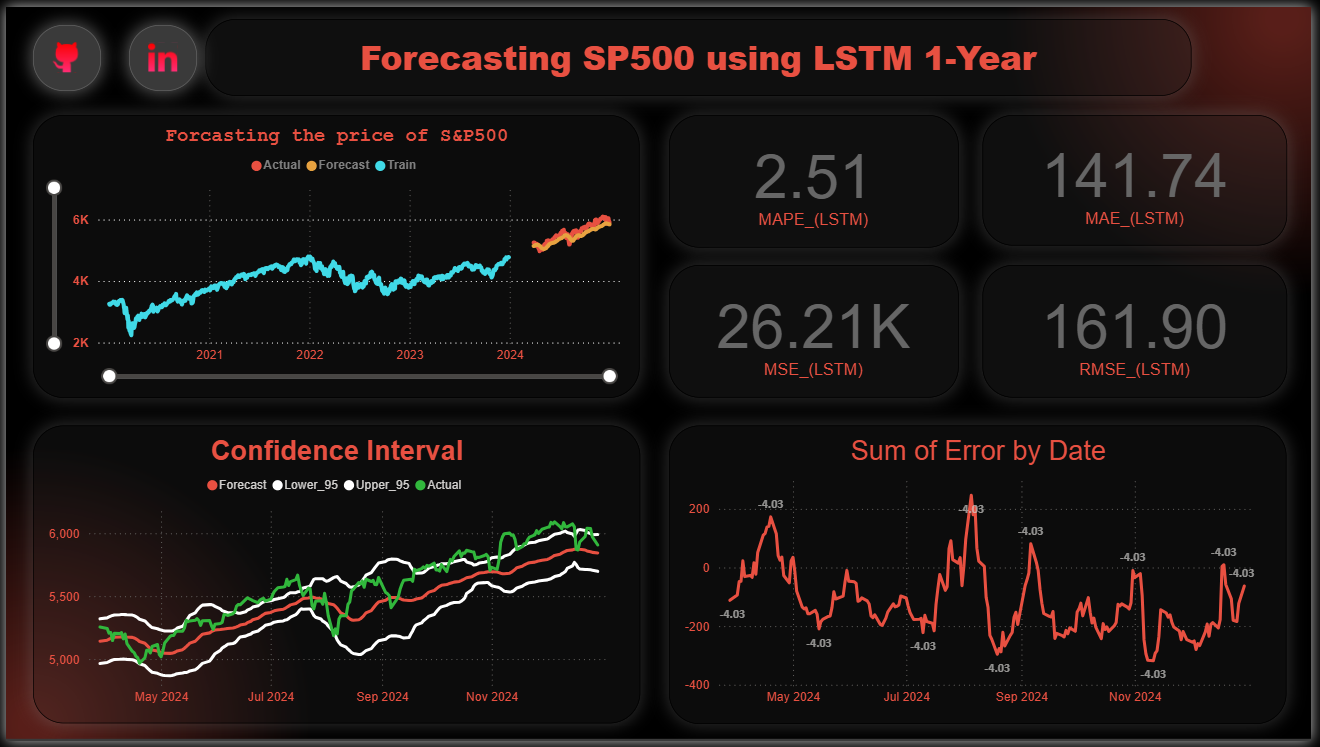

Layout of this report page (visuals, bound fields, positions):
{"tool":"powerbi","page":{"name":"LSTM 1-YAER","canvas":[1280,720],"ordinal":1},"visuals":[{"type":"lineChart","title":"Forcasting the price of S&P500","fields":{"Y":["Sum(lstm_ALL.Value)"],"Series":["lstm_ALL.Source"],"Category":["lstm_ALL.Date"]},"box":[26.9,105.4,594.6,277.4],"z":0},{"type":"card","fields":{"Values":["lstm_predictions.MAE3"]},"box":[957,105.4,298.9,128],"z":1000},{"type":"card","fields":{"Values":["lstm_predictions.MAPE3"]},"box":[650.5,105.4,283.9,130.1],"z":2000},{"type":"card","fields":{"Values":["lstm_predictions.MSE3"]},"box":[650.5,252.7,283.9,130.1],"z":3000},{"type":"card","fields":{"Values":["lstm_predictions.RMSE3"]},"box":[957,252.7,298.9,130.1],"z":4000},{"type":"lineChart","fields":{"Y":["Sum(lstm_predictions.Error)"],"Category":["lstm_predictions.Date"]},"box":[650.5,409.7,605.4,292.5],"z":5000},{"type":"textbox","box":[195.6,12.2,966.7,75.6],"z":6000},{"type":"lineChart","title":"Confidence Interval","fields":{"Category":["lstm_predictions.Date"],"Y":["Sum(lstm_predictions.Forecast)","Sum(lstm_predictions.Lower_95)","Sum(lstm_predictions.Upper_95)","Sum(lstm_predictions.Actual)"]},"box":[27,410,595,292],"z":7000},{"type":"actionButton","box":[26.7,17.8,66.7,64.4],"z":8000},{"type":"actionButton","box":[121.1,17.8,66.7,64.4],"z":9000}]}

Visuals, with their boxes in screenshot pixels (x1, y1, x2, y2), scaled from the page's 1280x720 canvas onto the 1320x747 screenshot:
"Forcasting the price of S&P500" lineChart: bbox(28, 109, 641, 397)
card - lstm_predictions.MAE3: bbox(987, 109, 1295, 242)
card - lstm_predictions.MAPE3: bbox(671, 109, 964, 244)
card - lstm_predictions.MSE3: bbox(671, 262, 964, 397)
card - lstm_predictions.RMSE3: bbox(987, 262, 1295, 397)
lineChart - Sum(lstm_predictions.Error) x lstm_predictions.Date: bbox(671, 425, 1295, 729)
textbox: bbox(202, 13, 1199, 91)
"Confidence Interval" lineChart: bbox(28, 425, 641, 728)
actionButton: bbox(28, 18, 96, 85)
actionButton: bbox(125, 18, 194, 85)
